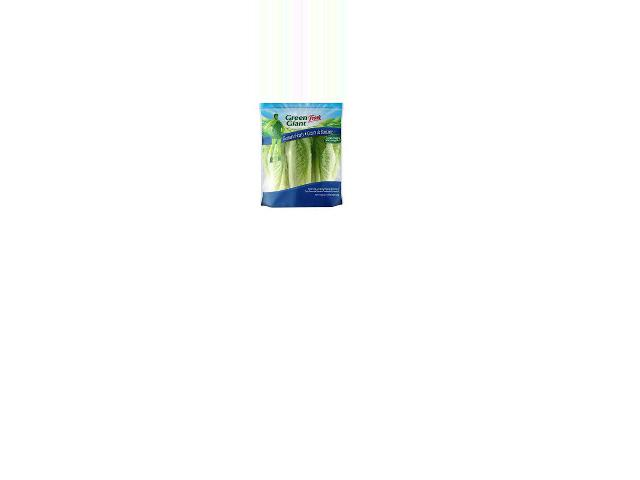lettuce: (257, 107, 343, 211)
